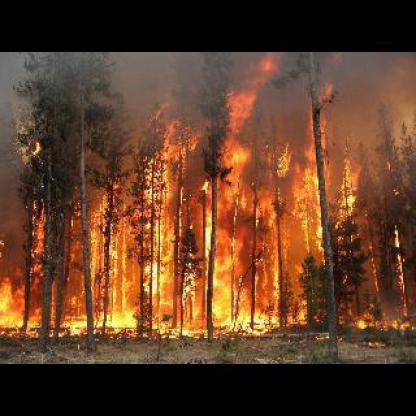fire: (90, 52, 360, 333), (27, 207, 86, 333), (0, 272, 27, 331)
